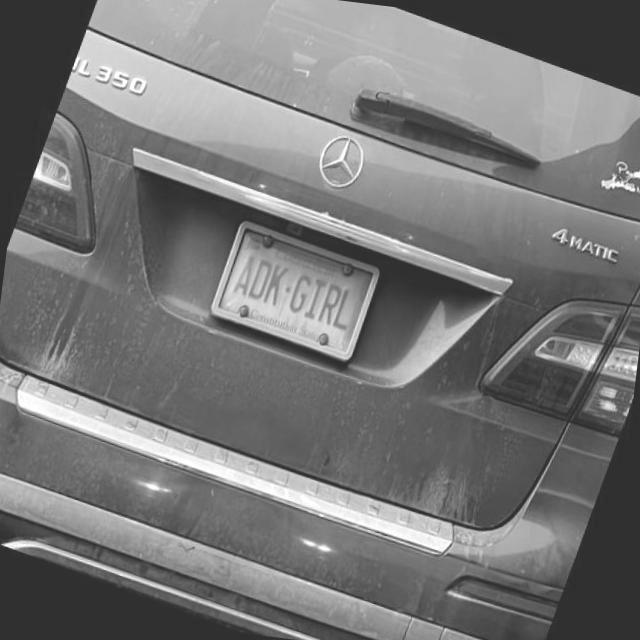LicensePlate: (205, 217, 382, 362)
